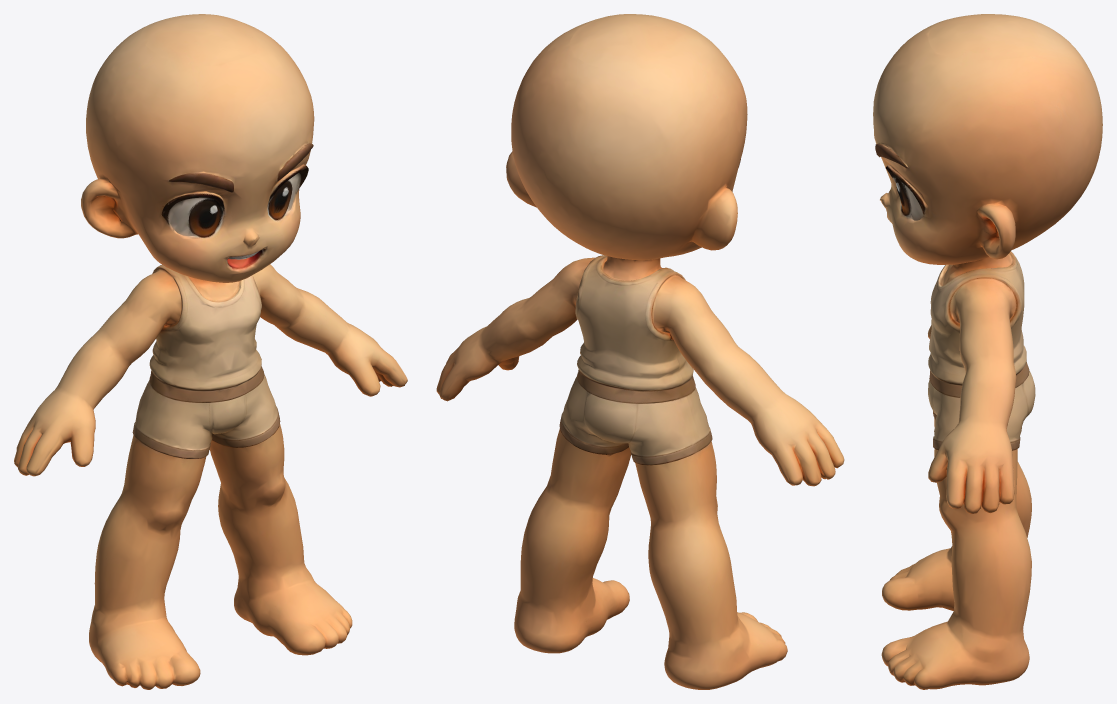
File: corpo.glb
The picture shows the model from 3 angles, left to right: view 1: azimuth 30°, elevation 25°; view 2: azimuth 150°, elevation 25°; view 3: azimuth 270°, elevation 25°; orthographic projection. The views are drawn at different scales.
Parts seen in each view (by area): view 1: tripo_node_983d5c18-ea92-41ce-886a-d61777951aa5; view 2: tripo_node_983d5c18-ea92-41ce-886a-d61777951aa5; view 3: tripo_node_983d5c18-ea92-41ce-886a-d61777951aa5.
Part boxes in pixels (x1,y1,x2,y2): tripo_node_983d5c18-ea92-41ce-886a-d61777951aa5: [14, 14, 407, 689]; tripo_node_983d5c18-ea92-41ce-886a-d61777951aa5: [436, 14, 844, 689]; tripo_node_983d5c18-ea92-41ce-886a-d61777951aa5: [873, 14, 1102, 689].
Size of the model in its own units: 0.636 by 0.9799 by 0.3326.
1 material, 1 textured.
